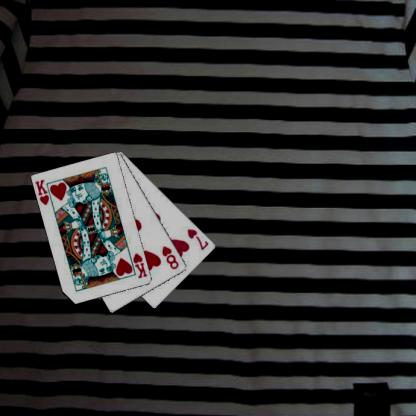7H: (185, 226, 211, 251)
8H: (160, 244, 180, 271)
KH: (33, 177, 51, 206), (131, 251, 148, 280)
